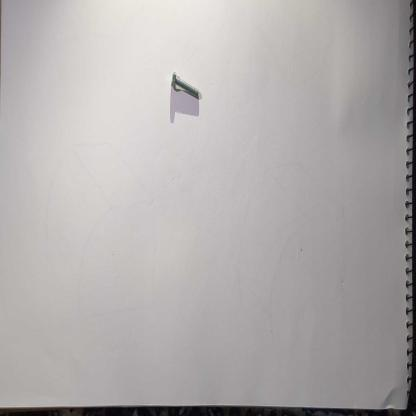Bolts: (167, 66, 204, 104)
